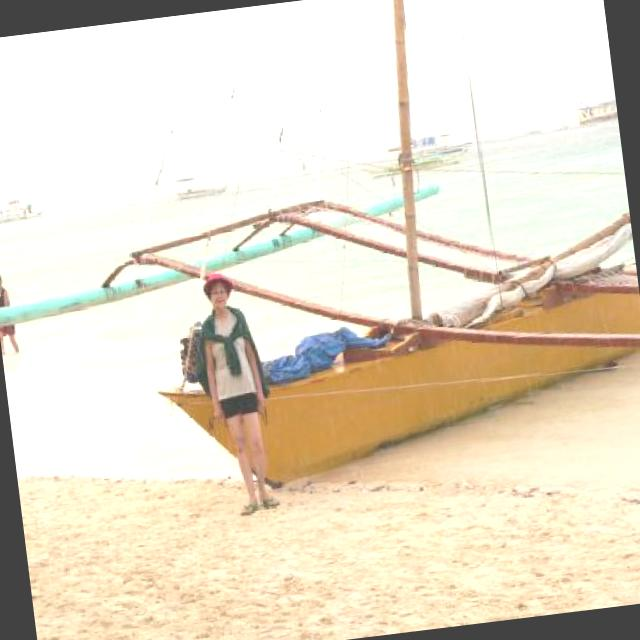Person: (172, 258, 282, 515), (0, 267, 24, 360)
